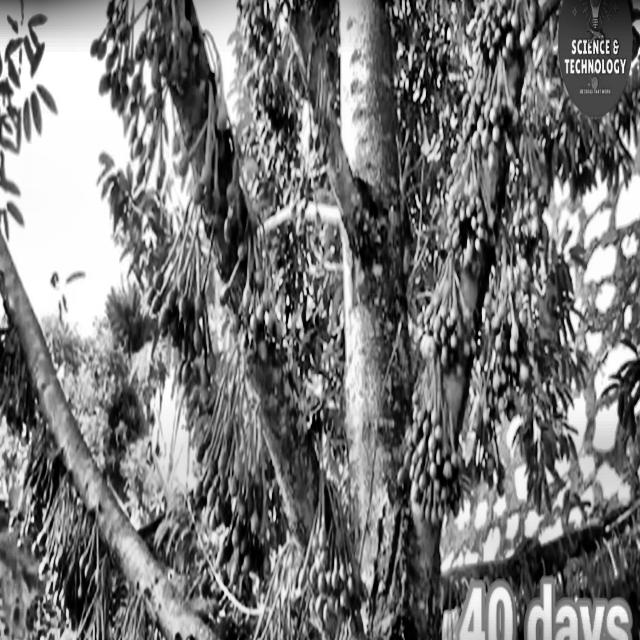arvore: (318, 0, 439, 640)
